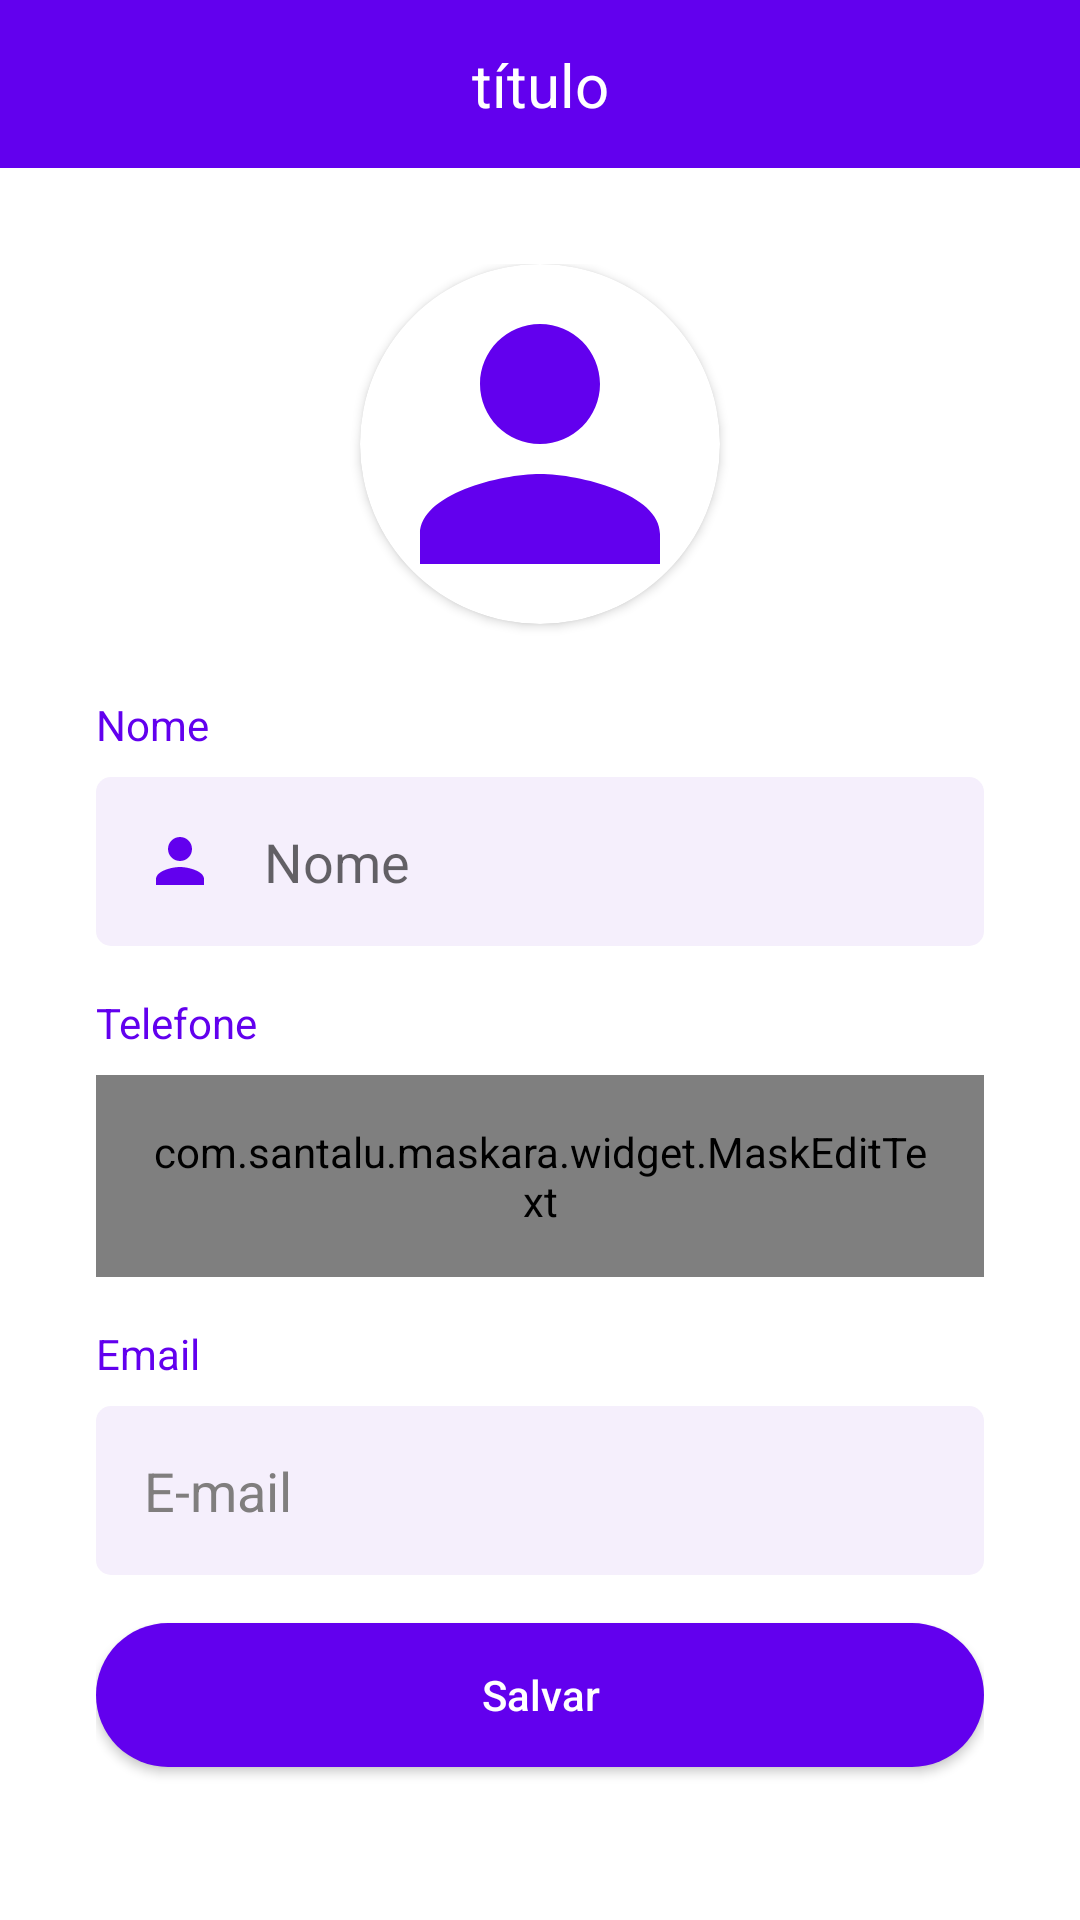

Icons on this 1080w x 1920h Android screen, each with its box as (x1, y1, x2, y2):
user: (360, 324, 720, 624)
